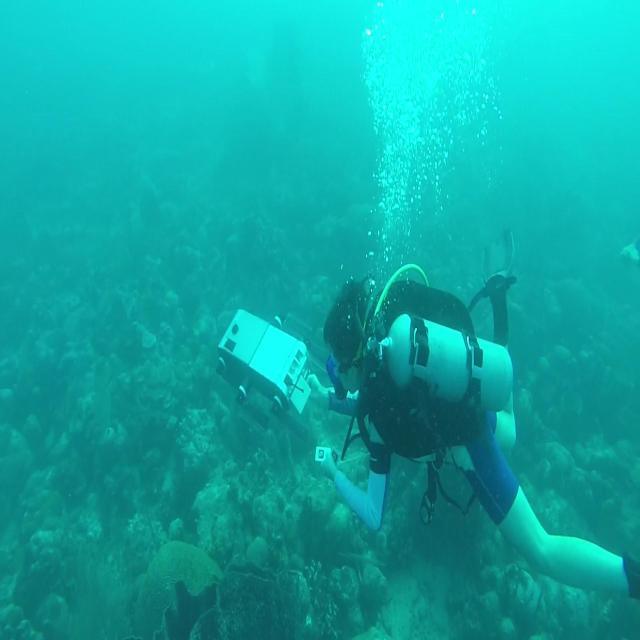human: (313, 261, 639, 601)
